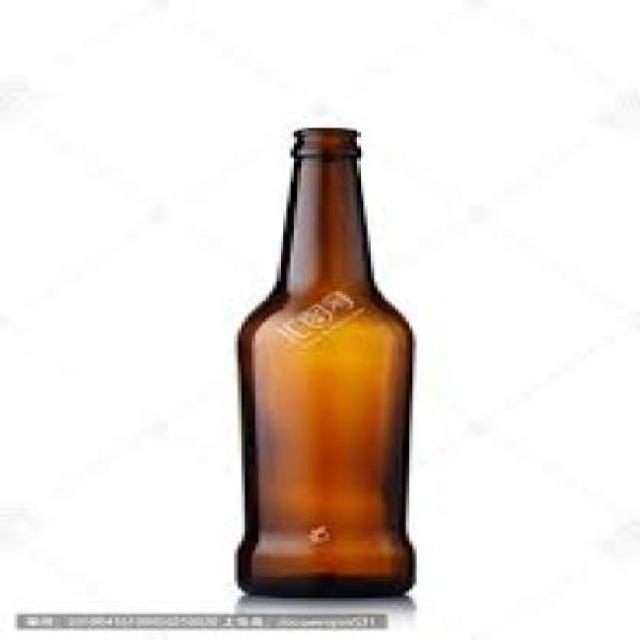kaca: (231, 127, 412, 596)
